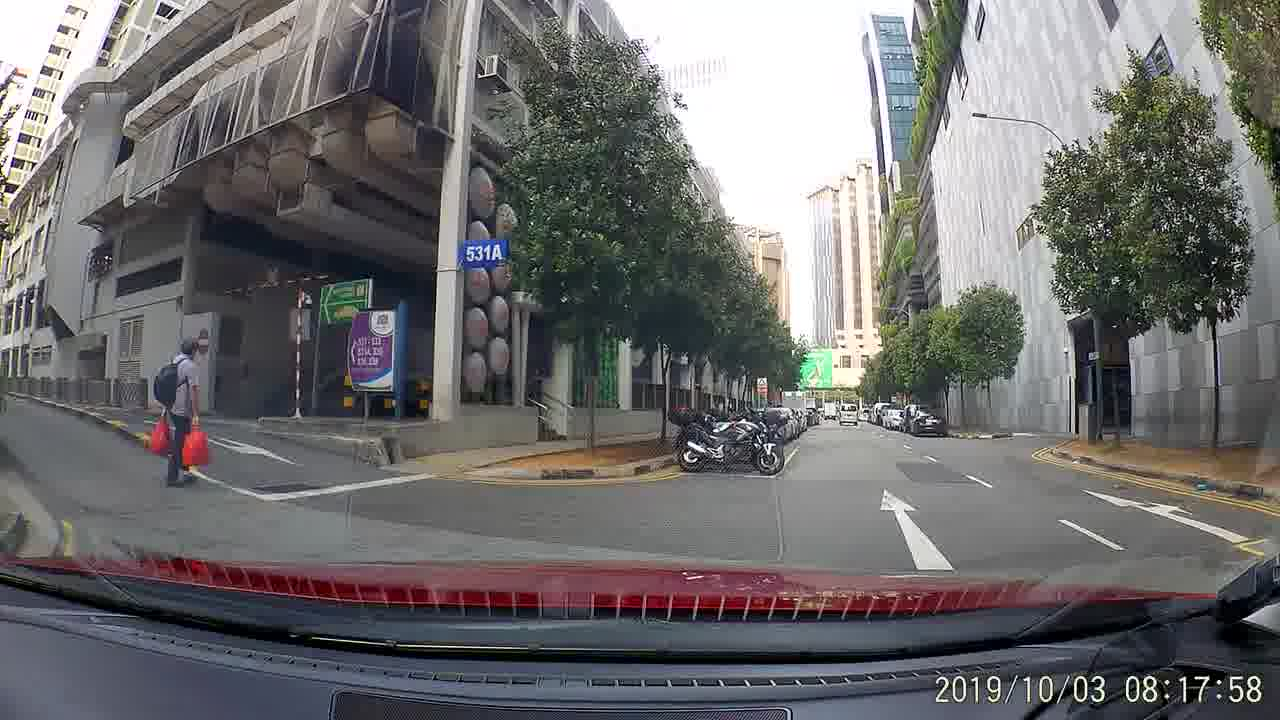car: (907, 409, 950, 442)
